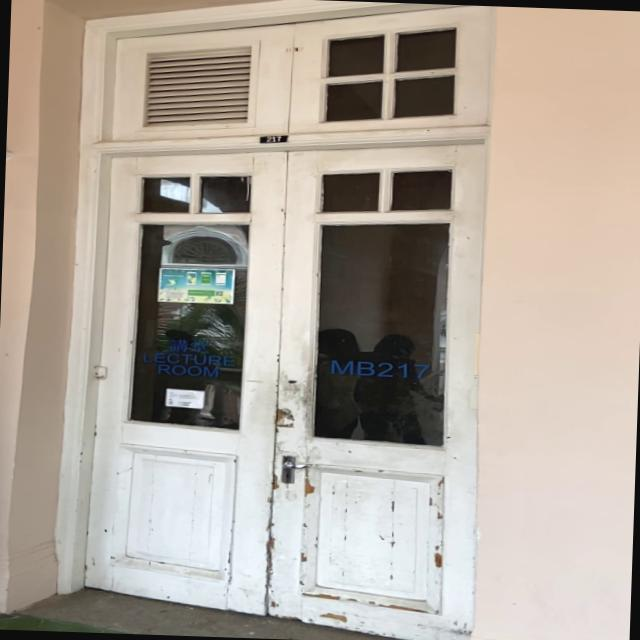room217: (257, 132, 290, 146)
room217Window: (321, 356, 435, 384)
